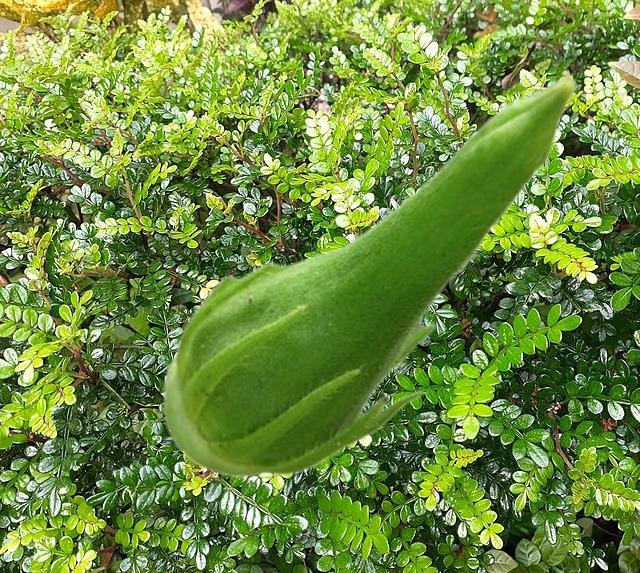okra: (161, 74, 578, 478)
